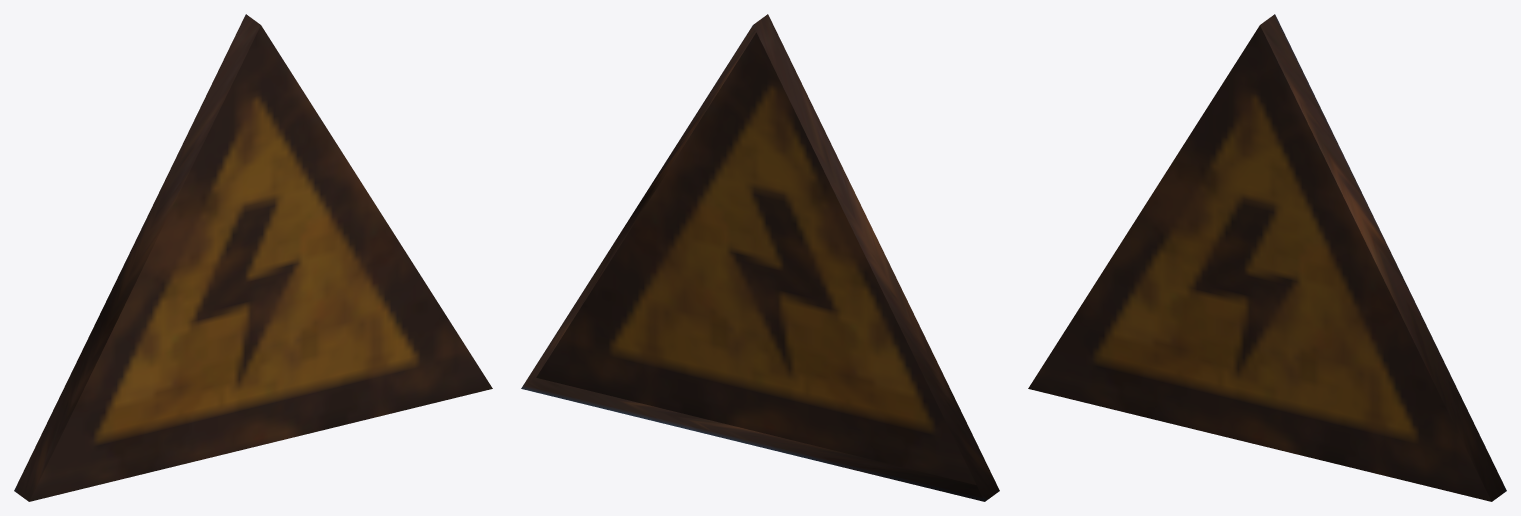
File: Stage-gongchang-paizi5.FBX
3 views of the same model, side by side, from view 1: azimuth 30°, elevation 25°; view 2: azimuth 150°, elevation 25°; view 3: azimuth 330°, elevation 25° (orthographic).
Visible parts, largest first — view 1: Object07; view 2: Object07; view 3: Object07.
Part boxes in pixels (box(x1,y1,x2,y2)): Object07: box(14, 14, 492, 501); Object07: box(521, 14, 999, 501); Object07: box(1028, 14, 1506, 501).
Bounding box in the file's own units: 0.8829 × 0.0498 × 0.7647.
